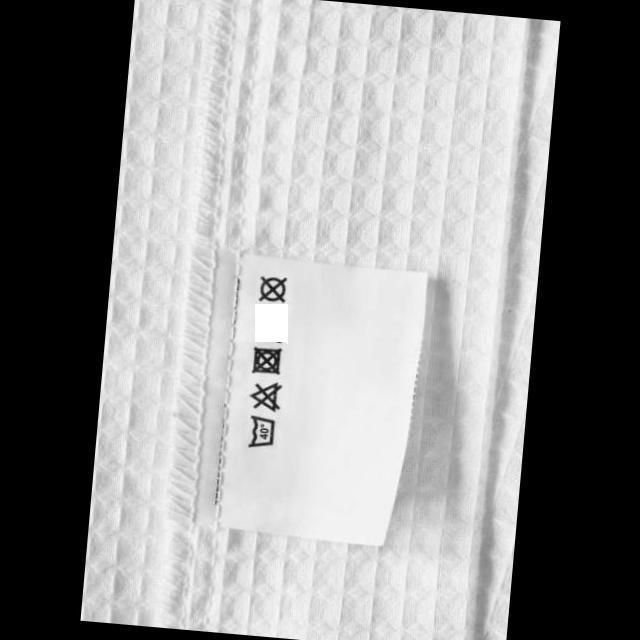40C: (245, 414, 277, 449)
DN_bleach: (245, 374, 284, 412)
DN_dry_clean: (254, 270, 289, 304)
DN_tumble_dry: (250, 342, 286, 377)
